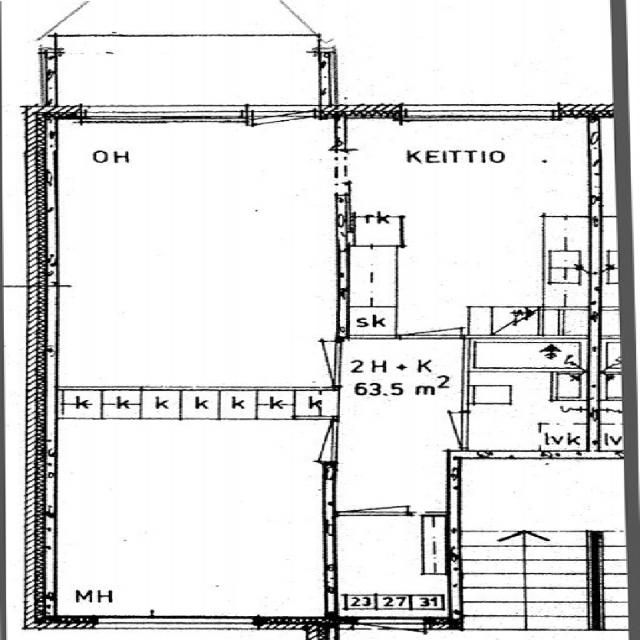door: (253, 104, 316, 156), (268, 342, 340, 382), (345, 472, 409, 515), (271, 422, 340, 461), (404, 412, 469, 448)
